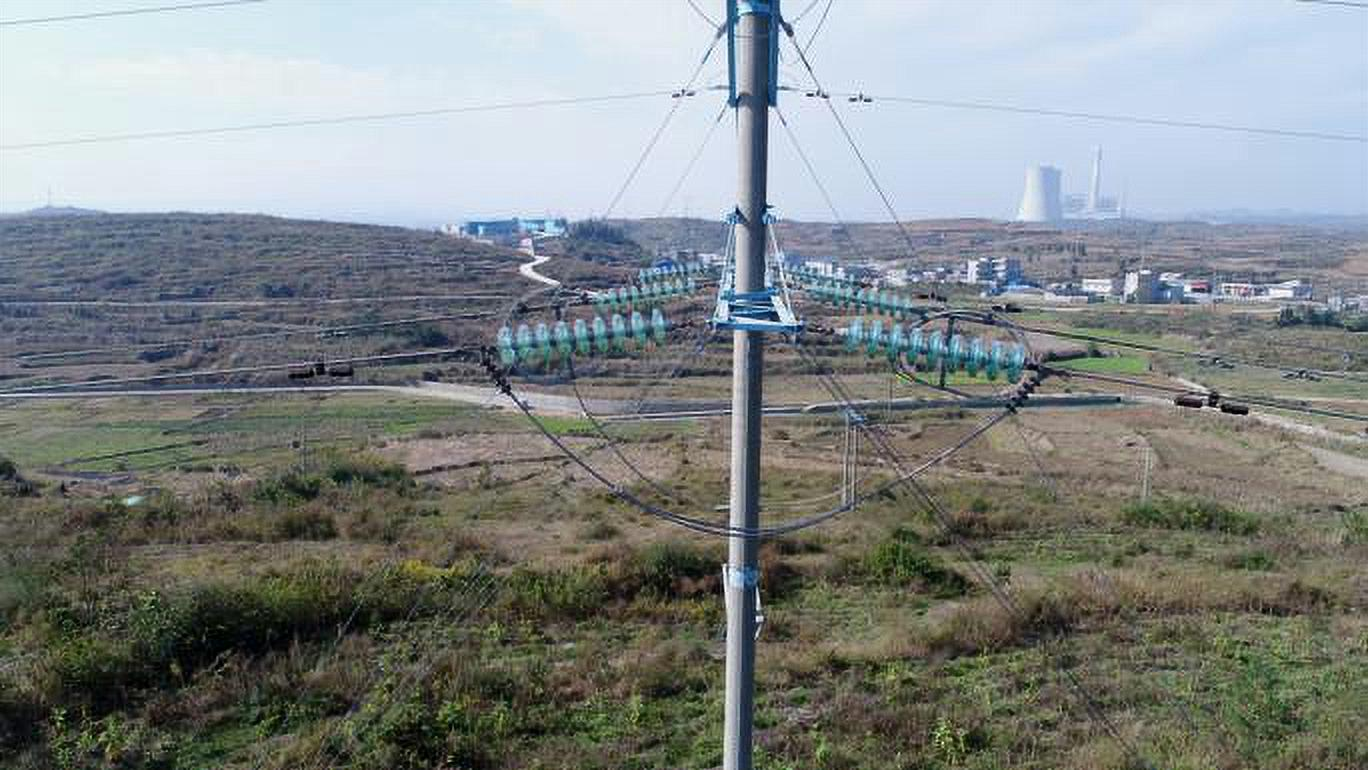insulator: (838, 312, 1030, 388), (488, 305, 670, 369), (803, 274, 914, 322), (591, 273, 701, 316)
